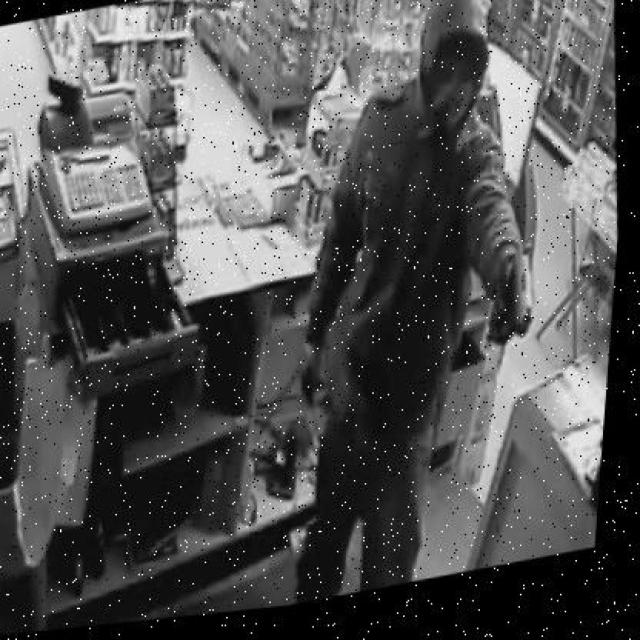weapon: (485, 242, 538, 348)
